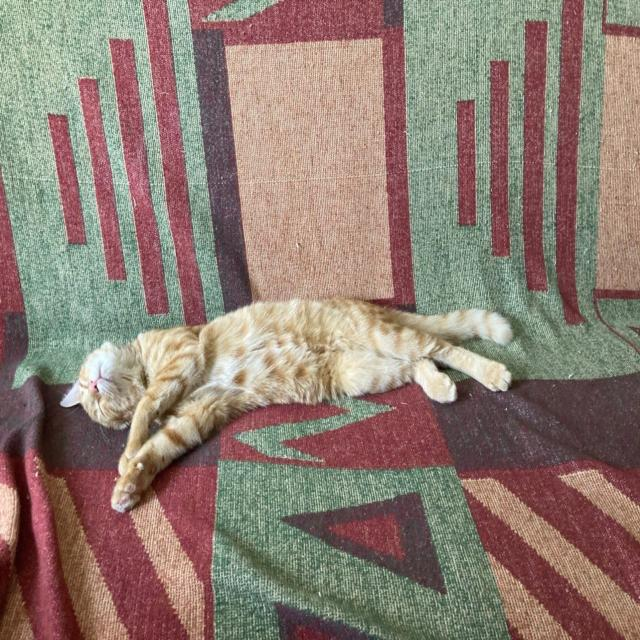red_cat: (57, 306, 499, 450)
